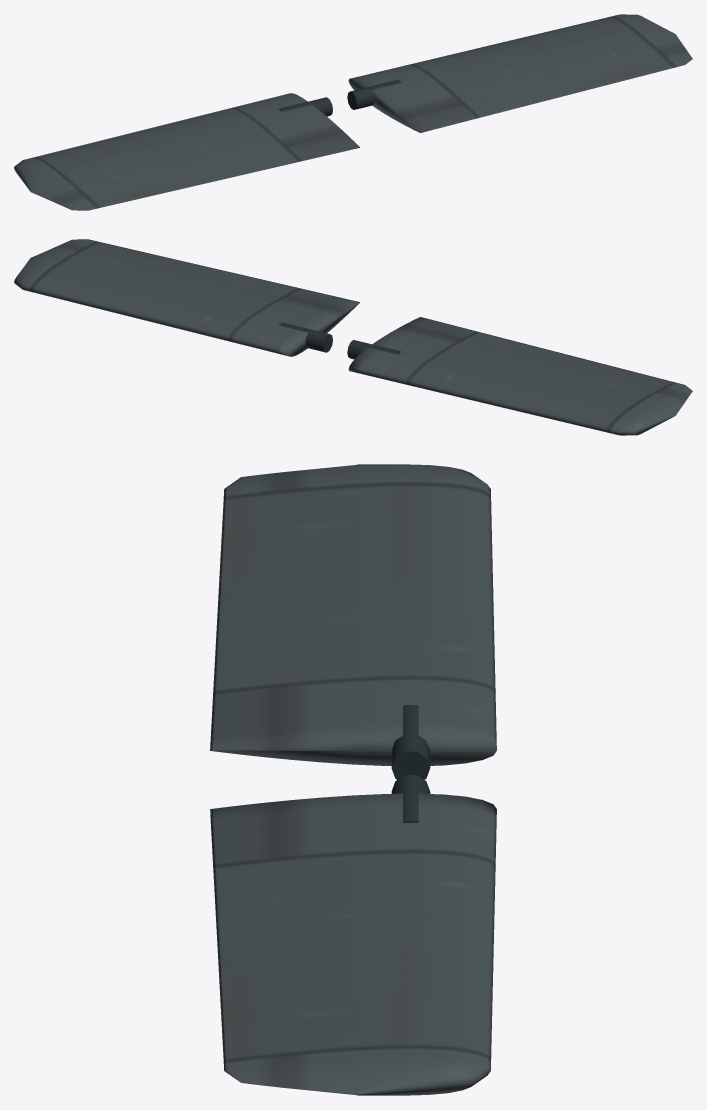
Rendered from sternPlanes.obj.
3 renders of one model, top to bottom at view 1: azimuth 30°, elevation 25°; view 2: azimuth 150°, elevation 25°; view 3: azimuth 270°, elevation 25°, orthographic. The views are drawn at different scales.
Visible parts, largest first — view 1: sternPlanes; view 2: sternPlanes; view 3: sternPlanes.
Boxes of the visible parts, bbox=[...] form: sternPlanes: bbox=[14, 14, 692, 210]; sternPlanes: bbox=[14, 239, 692, 435]; sternPlanes: bbox=[210, 464, 496, 1095].
Bounding box in the file's own units: 5.4 × 0.1331 × 1.04.
Materials: 2 (1 with a texture image).
